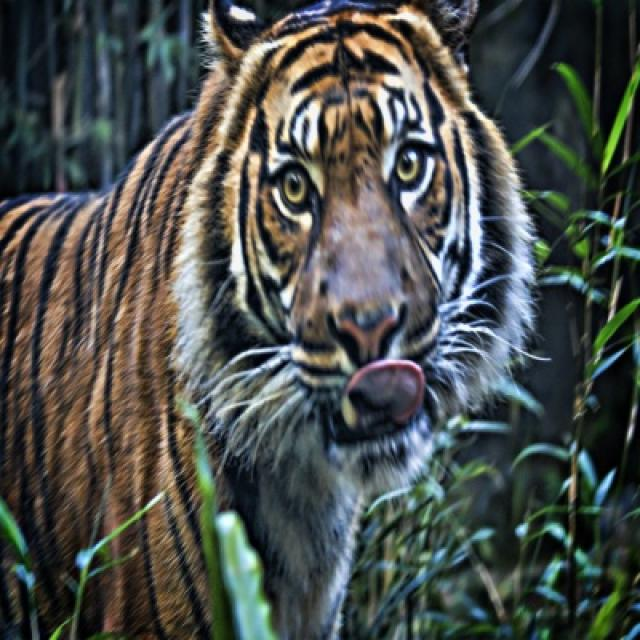Tiger: (0, 0, 542, 638)
